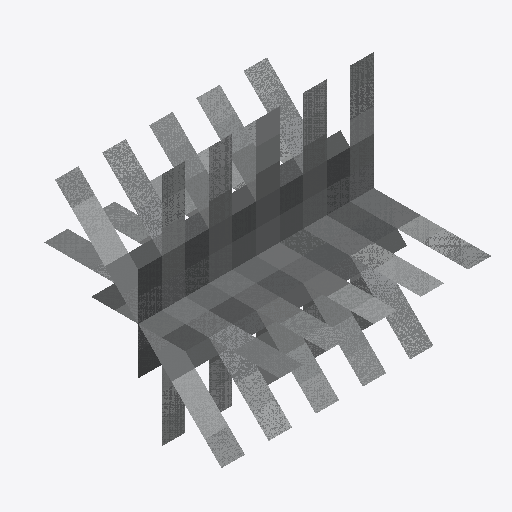
Isometric view (azimuth 45°, elevation 35.3°) of a Minecraft model made of 4 cuboids, textured from the same repository.
Parts seen in each view (by area): CentralBladesX2, CentralBladesV, CentralBladesH.
Boxes of the visible parts, x1=… form: CentralBladesX2: x1=55, y1=58, x2=432, y2=467; CentralBladesV: x1=138, y1=52, x2=373, y2=445; CentralBladesH: x1=44, y1=120, x2=490, y2=377.
Bounding box in the file's own units: 10 × 10 × 10.